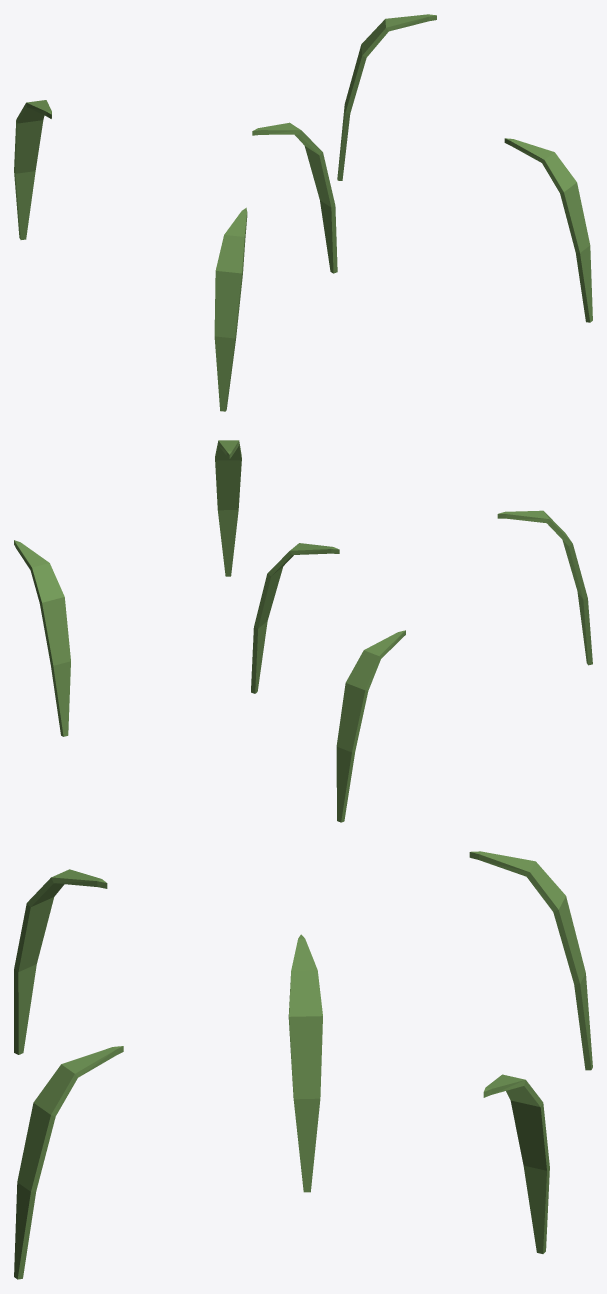
File: crop_wheat.s1.glb
3 views of the same model, one above another, from view 1: azimuth 30°, elevation 25°; view 2: azimuth 150°, elevation 25°; view 3: azimuth 270°, elevation 25° (orthographic). The views are drawn at different scales.
Size of the model in its own units: 0.5957 by 0.2315 by 0.5903.
